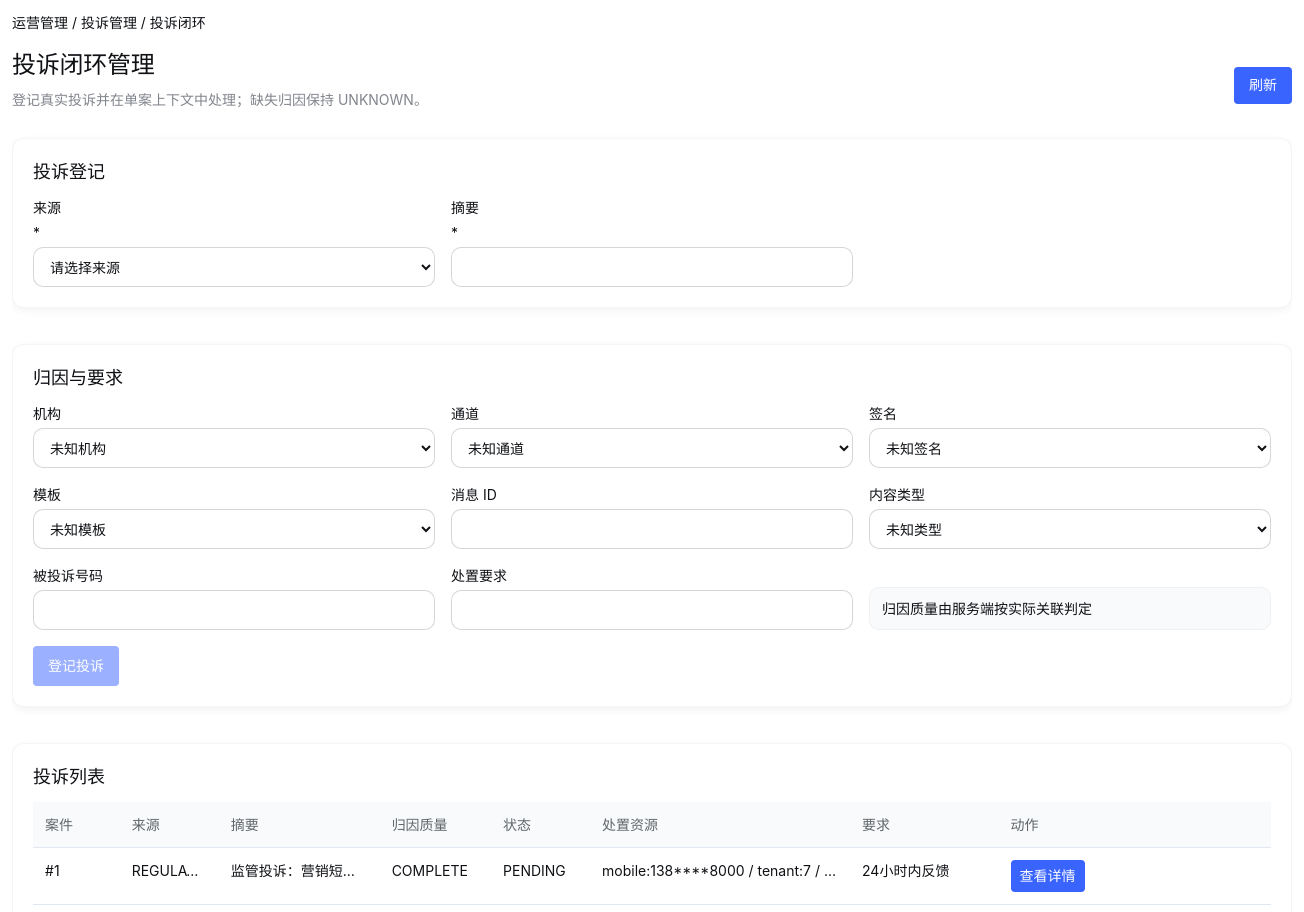
Test case: Issue 124 complaint case context UI › latches an intake submission synchronously before pending state renders
Select "用户举报" in the dropdown with test id "admin-complaint-case-complaints-source": (234, 267) [33, 247, 435, 287]
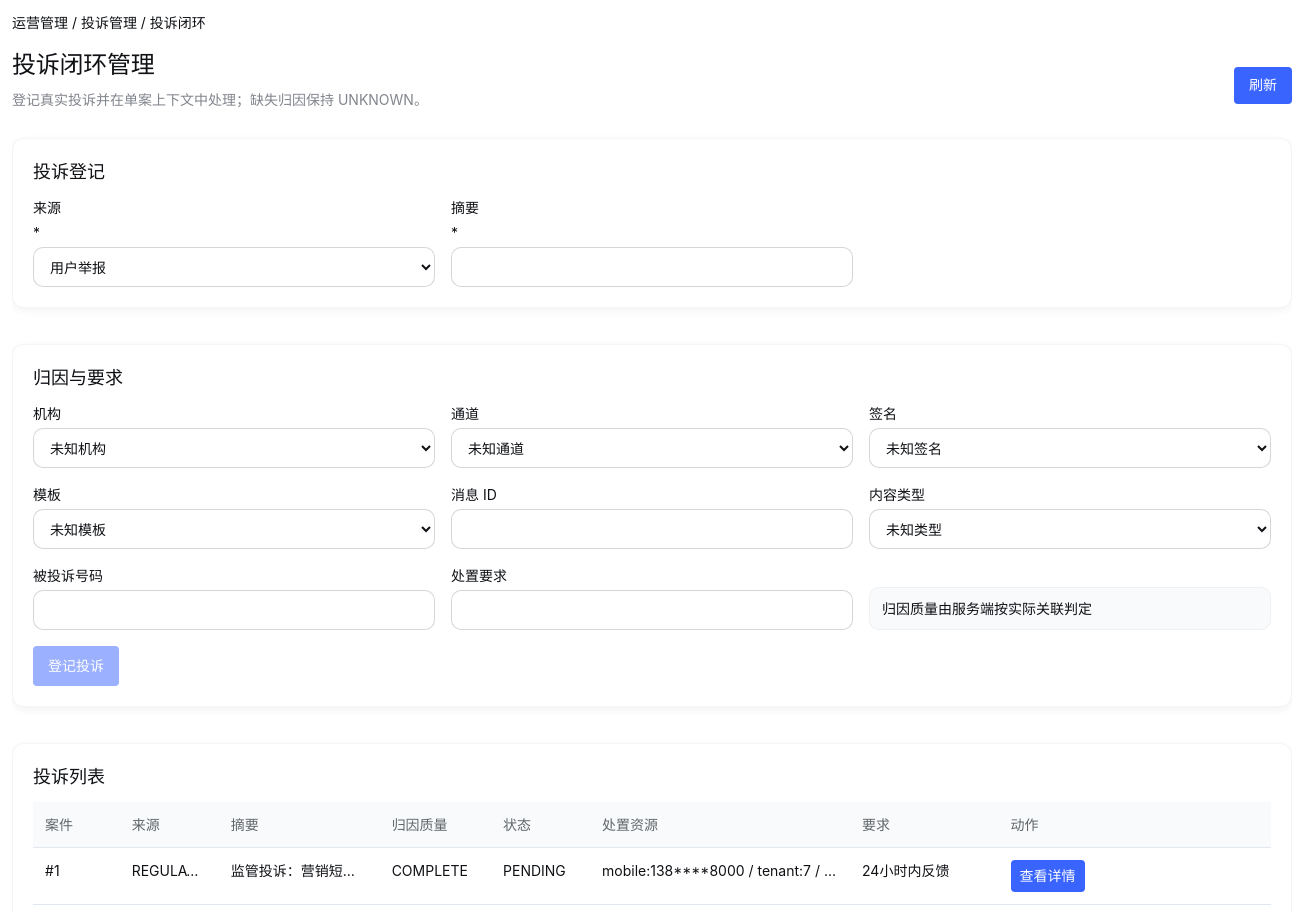
In the field with test id "admin-complaint-case-complaints-summary": (652, 267) [451, 247, 853, 287], type "重复提交防护"
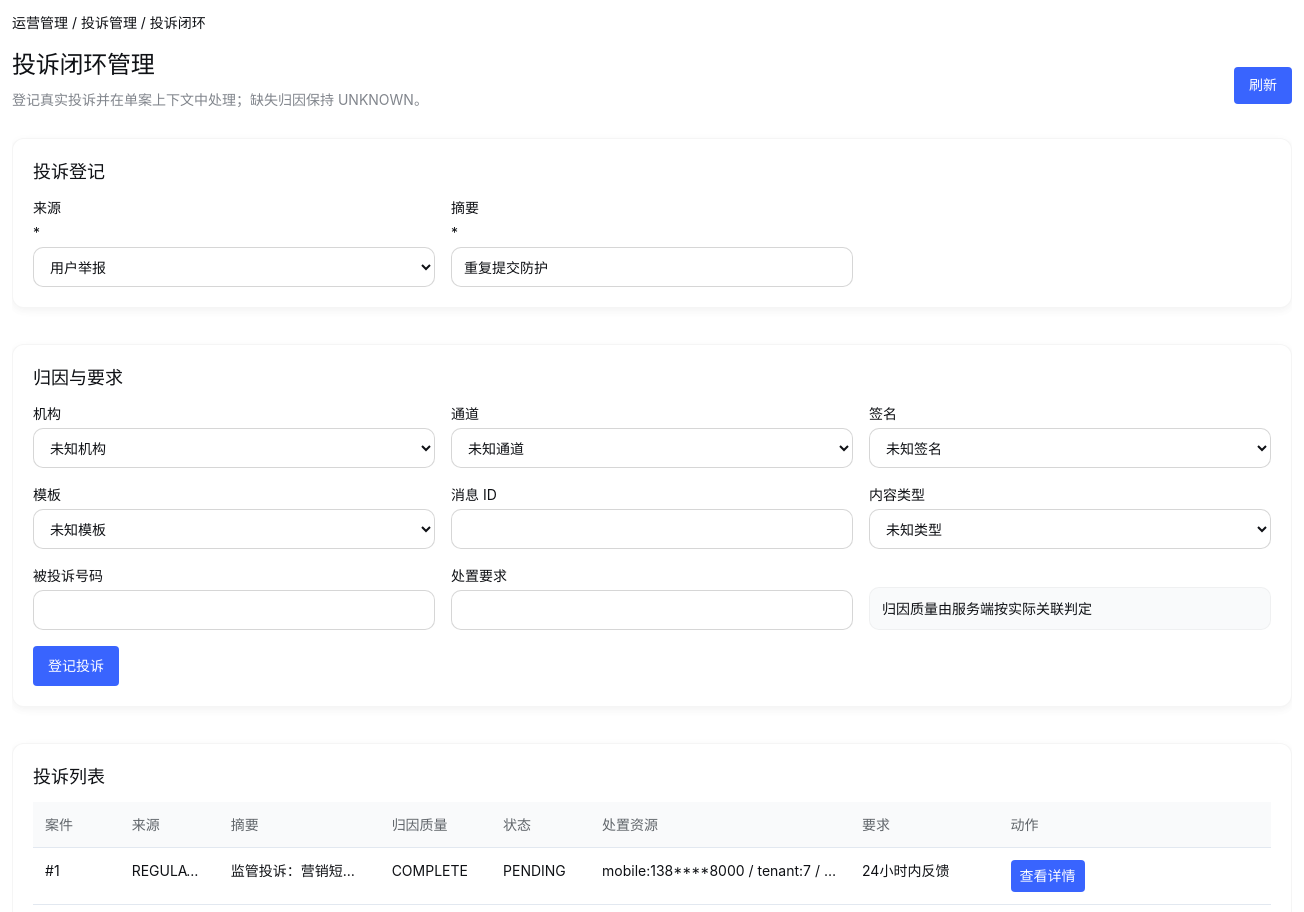
Submit the form with test id "entity-form"
Submit the form with test id "entity-form"
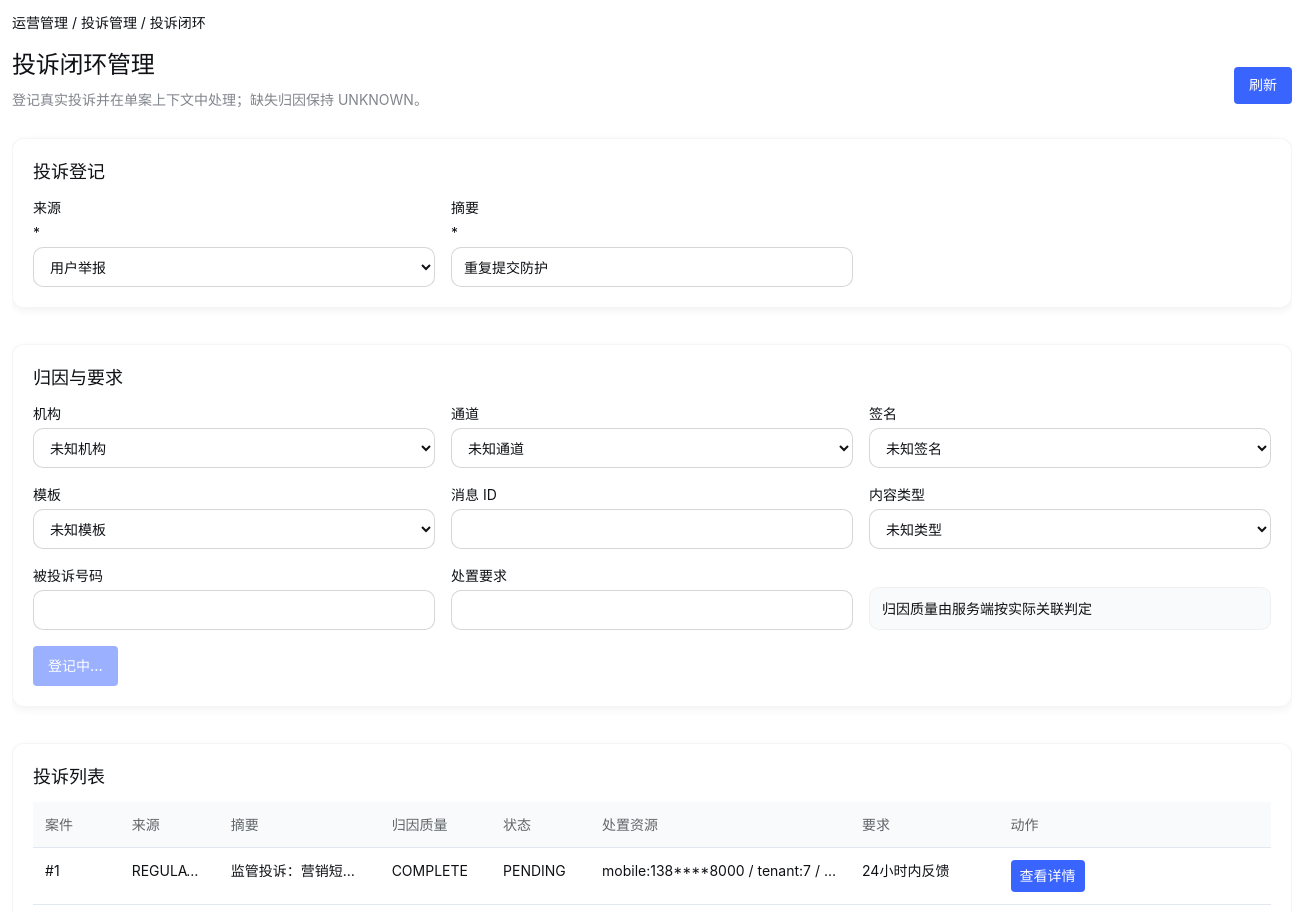
Expected: the button with test id "form-submit" is disabled, [33, 646, 118, 686]
